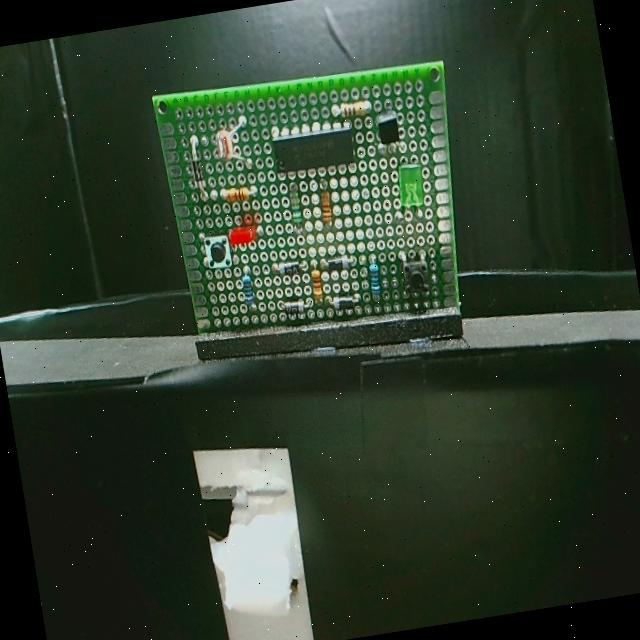IC: (262, 112, 364, 189)
cds: (210, 110, 260, 178)
diode: (182, 132, 212, 208), (268, 252, 314, 284), (274, 290, 318, 321), (318, 249, 362, 279), (326, 290, 367, 318)
led: (391, 156, 435, 229), (224, 219, 268, 252)
resistor: (314, 175, 342, 235), (362, 250, 388, 314), (328, 92, 378, 125), (239, 262, 265, 323), (305, 256, 331, 316), (283, 178, 308, 238), (218, 180, 262, 212)
switch: (397, 245, 438, 306), (196, 226, 234, 276)
transistor: (374, 110, 411, 162)
